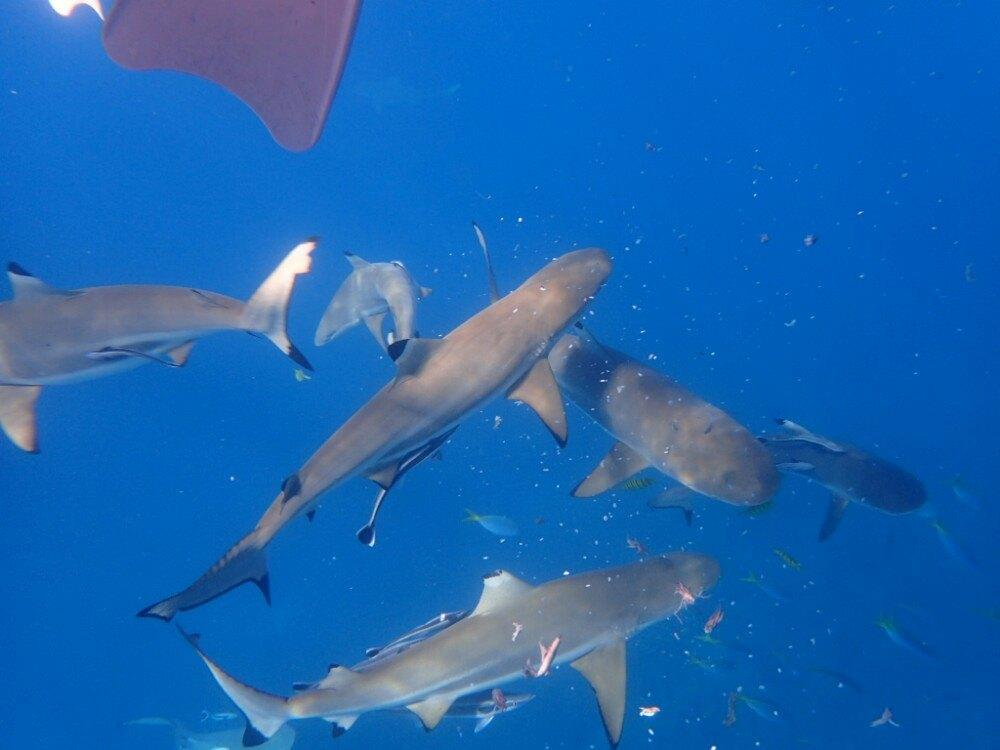fish: (143, 244, 617, 623), (206, 520, 718, 739)
